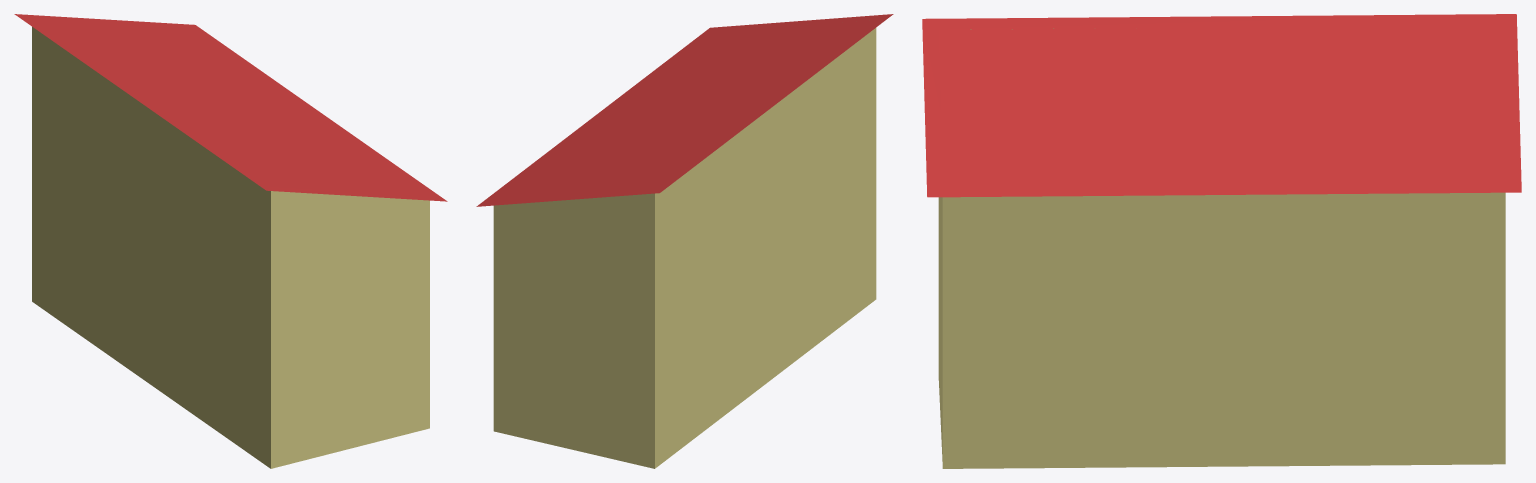
3 views of the same model, side by side, from view 1: azimuth 30°, elevation 25°; view 2: azimuth 150°, elevation 25°; view 3: azimuth 270°, elevation 25° (orthographic). The views are drawn at different scales.
Size of the model in its own units: 4.22 by 9.39 by 6.01.
